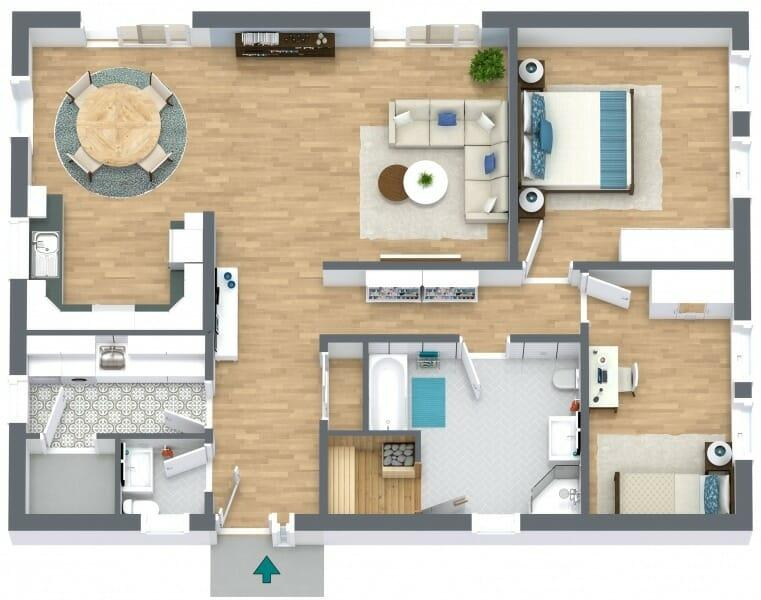room: (21, 21, 514, 266), (514, 21, 739, 263), (325, 340, 585, 520), (586, 266, 740, 521), (19, 334, 208, 520)
